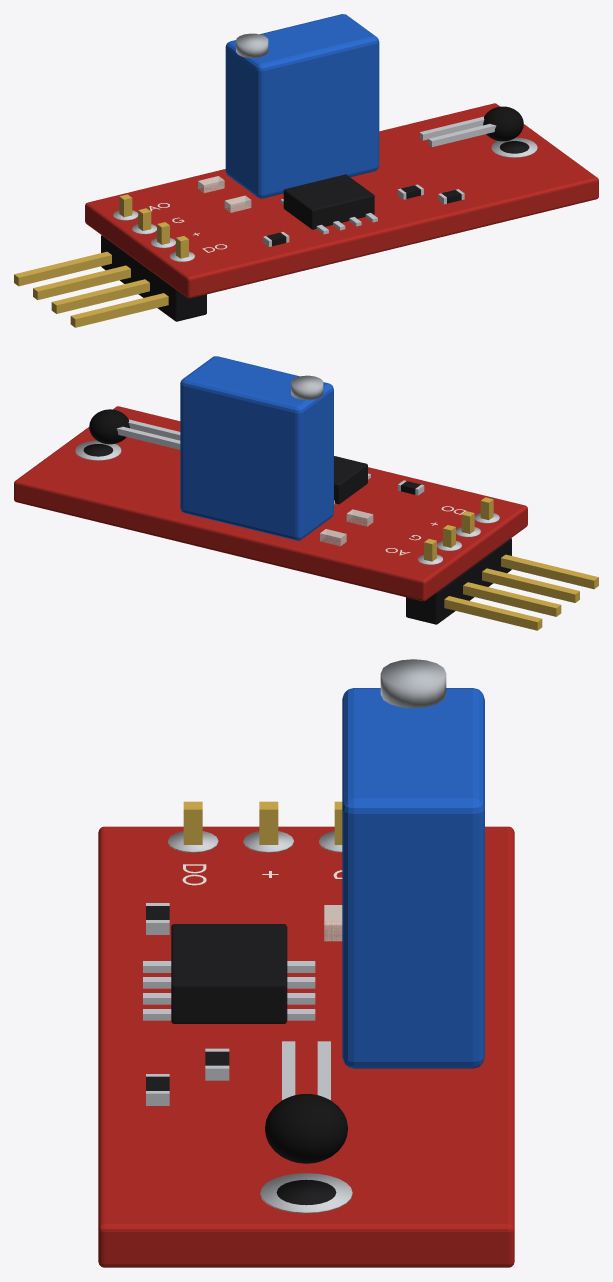
Rendered from digital-temperature-sensor.glb.
3 renders of one model, top to bottom at view 1: azimuth 30°, elevation 25°; view 2: azimuth 150°, elevation 25°; view 3: azimuth 270°, elevation 25°, orthographic. The views are drawn at different scales.
Parts seen in each view (by area): view 1: pcb.015, trimpot.003, lm393.003, header.015, pin_h.051, pin_h.052, pin_h.049, pin_h.050, part.057, trim_screw.003, part.055, part.056 (+1 smaller); view 2: pcb.015, trimpot.003, header.015, pin_h.050, pin_h.049, pin_h.052, pin_h.051, lm393.003, part.057, trim_screw.003, part.056, part.055 (+1 smaller); view 3: pcb.015, trimpot.003, lm393.003, part.057, trim_screw.003, hole_ring.027, hole.027, pin_v.051, pin_v.052, part.055, part.056.
Boxes of the visible parts, <box> form: pcb.015: <box>85,103,598,298</box>; trimpot.003: <box>225,14,379,198</box>; lm393.003: <box>283,174,374,229</box>; header.015: <box>101,235,206,321</box>; pin_h.051: <box>51,279,149,313</box>; pin_h.052: <box>70,293,168,327</box>; pin_h.049: <box>14,251,111,286</box>; pin_h.050: <box>33,265,130,300</box>; part.057: <box>483,106,523,141</box>; trim_screw.003: <box>236,33,268,57</box>; part.055: <box>428,124,496,146</box>; part.056: <box>419,116,484,140</box>; pcb.015: <box>14,406,527,601</box>; trimpot.003: <box>180,356,333,540</box>; header.015: <box>406,538,511,624</box>; pin_h.050: <box>463,582,561,616</box>; pin_h.049: <box>444,596,542,630</box>; pin_h.052: <box>501,554,598,589</box>; pin_h.051: <box>482,568,579,602</box>; lm393.003: <box>334,456,367,504</box>; part.057: <box>89,409,129,444</box>; trim_screw.003: <box>291,375,323,400</box>; part.056: <box>116,426,180,449</box>; part.055: <box>128,419,180,440</box>; pcb.015: <box>98,826,514,1267</box>; trimpot.003: <box>342,688,484,1068</box>; lm393.003: <box>171,924,287,1023</box>; part.057: <box>265,1094,347,1163</box>; trim_screw.003: <box>380,659,446,708</box>; hole_ring.027: <box>260,1173,352,1213</box>; hole.027: <box>276,1179,336,1205</box>; pin_v.051: <box>259,801,278,844</box>; pin_v.052: <box>183,801,202,844</box>; part.055: <box>282,1041,295,1100</box>; part.056: <box>317,1041,330,1100</box>.
Bounding box in the file's own units: 0.0391 × 0.0149 × 0.014.
